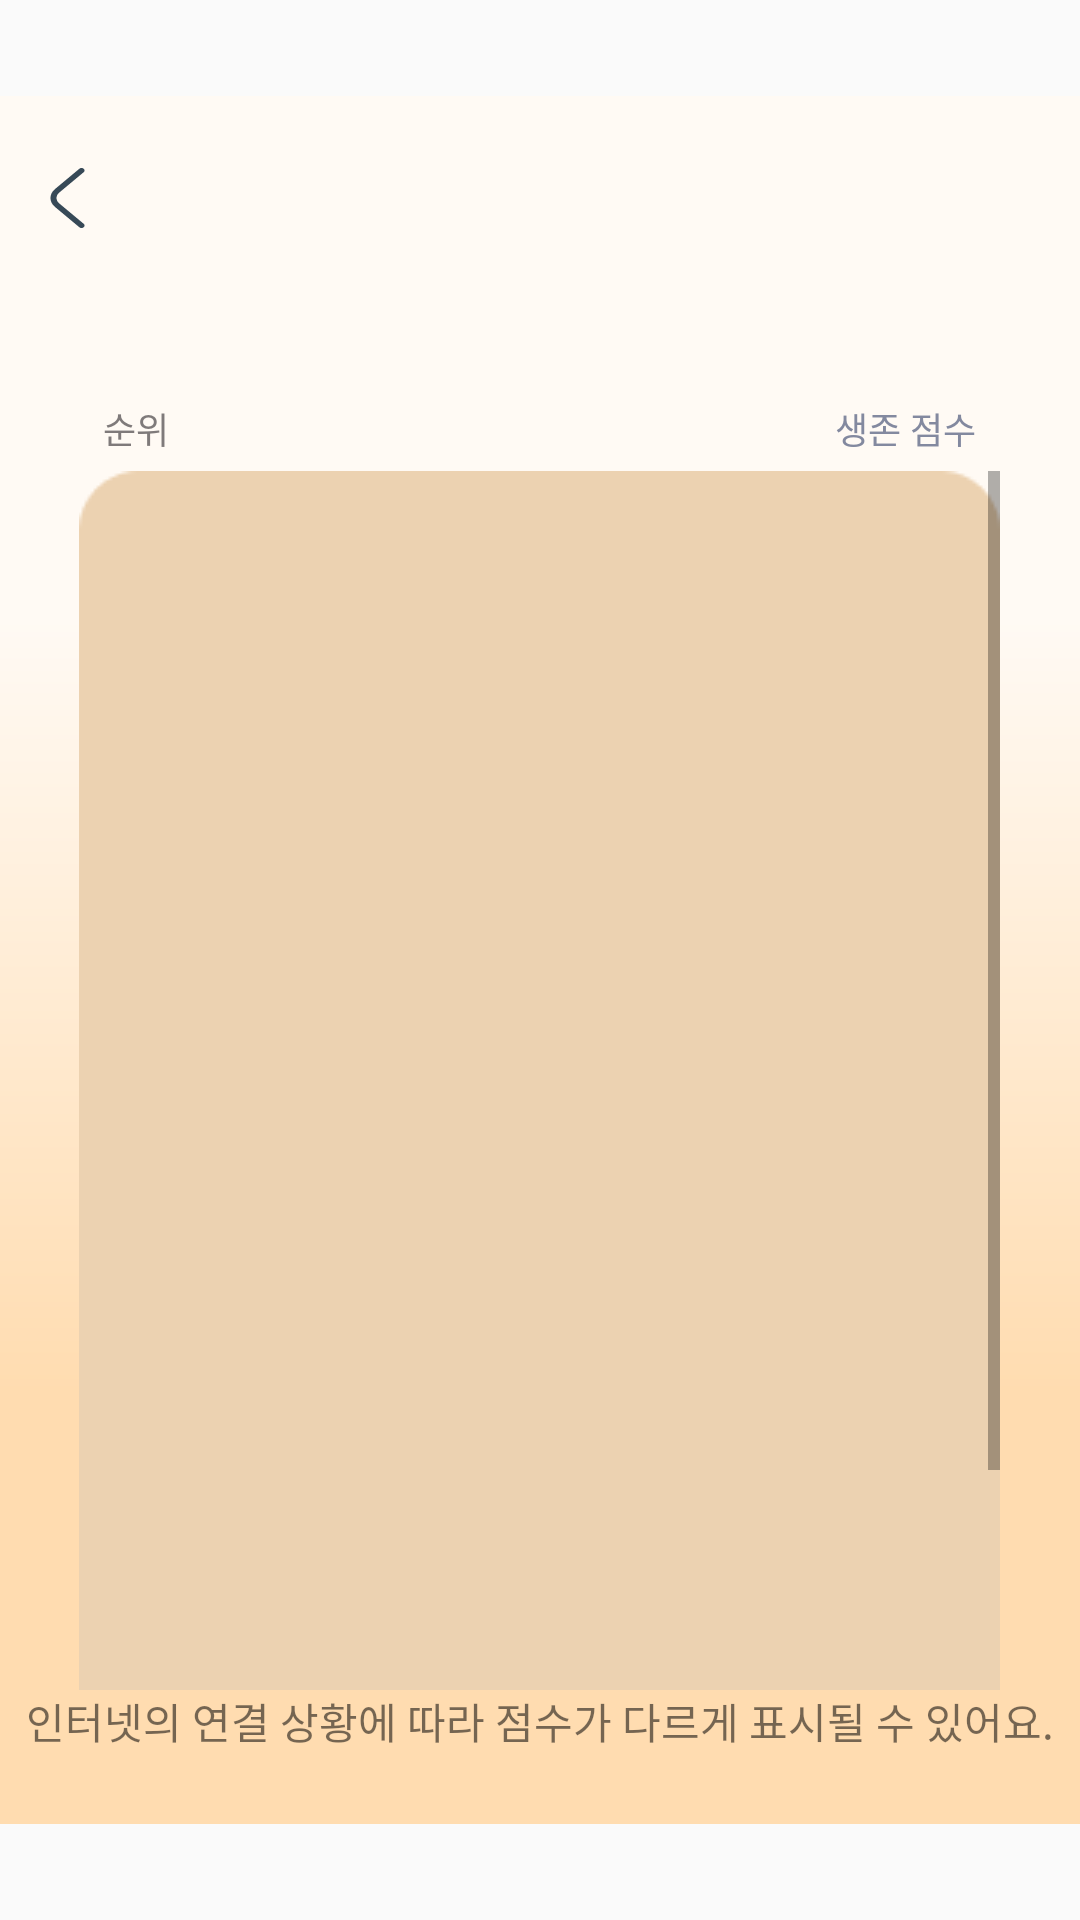

Named icons in this screenshot (1080px x 1920px) and their centers, point (x, y):
back: point (67, 198)
